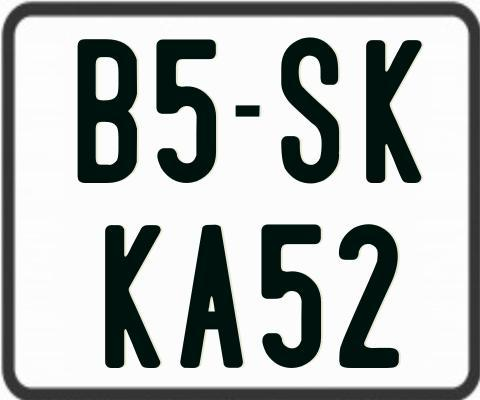2: (336, 221, 396, 369)
5: (154, 37, 217, 181), (260, 224, 323, 368)
A: (177, 222, 243, 366)
B: (75, 39, 135, 183)
K: (103, 224, 165, 367), (365, 38, 426, 181)
S: (279, 35, 339, 187)
